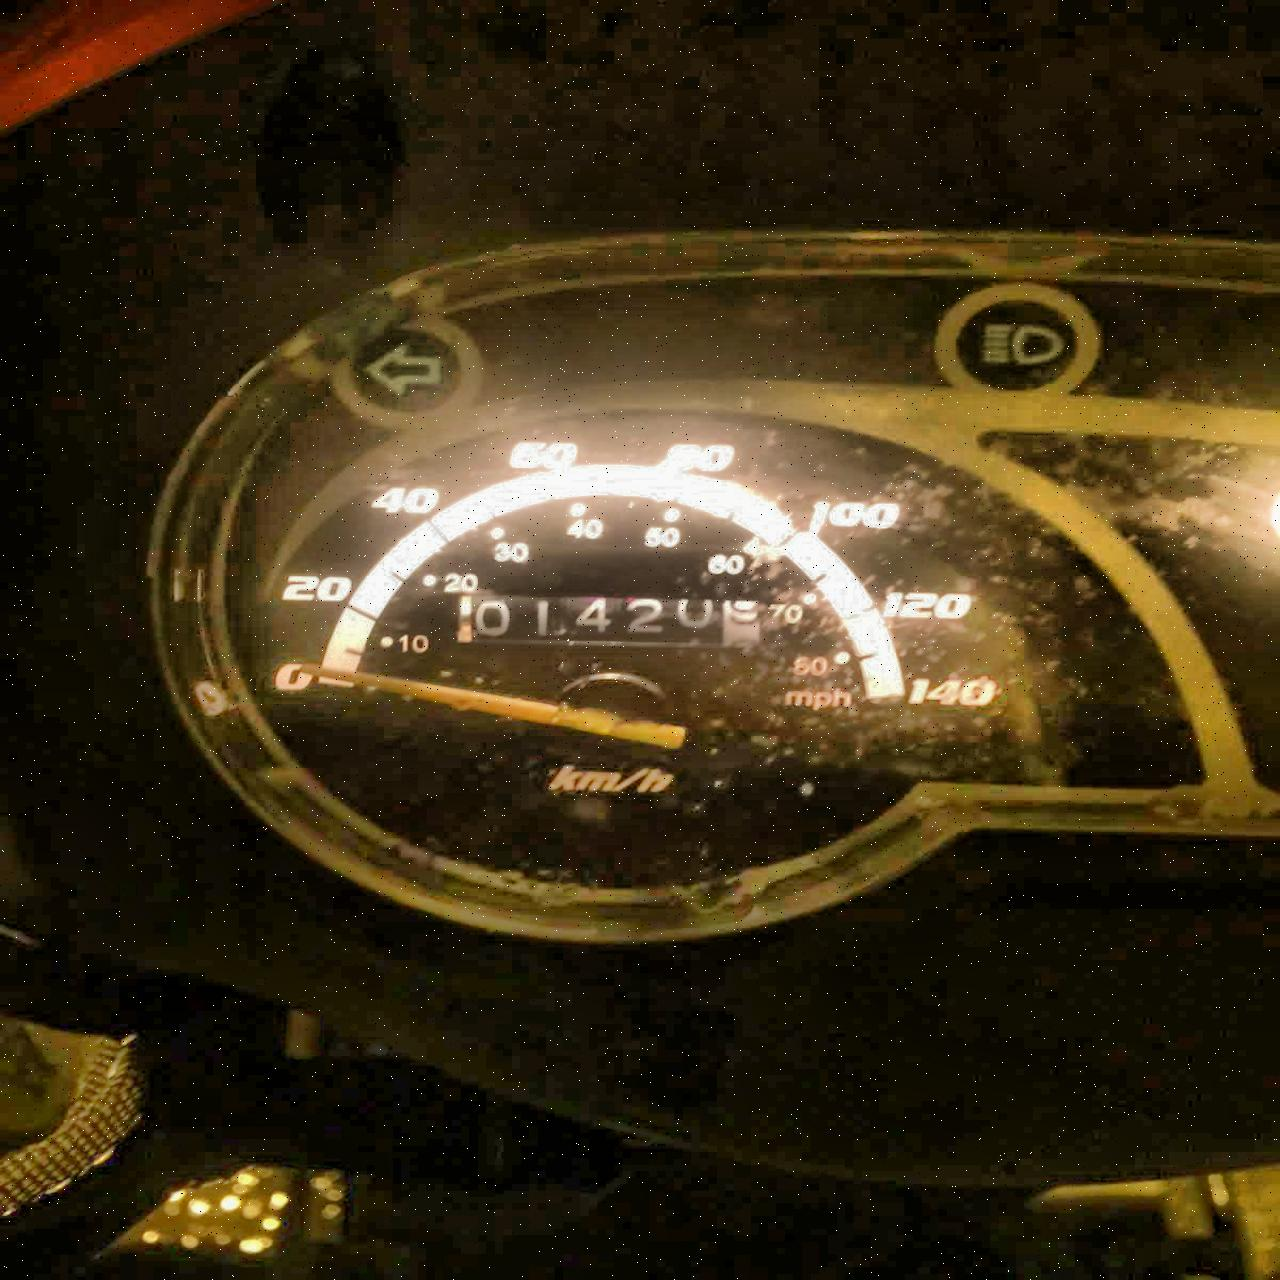0: (674, 591, 713, 628), (474, 599, 509, 636)
1: (536, 599, 549, 636)
2: (625, 598, 662, 633)
4: (573, 595, 611, 633)
9: (729, 594, 760, 625)
odometer: (452, 591, 763, 649)
